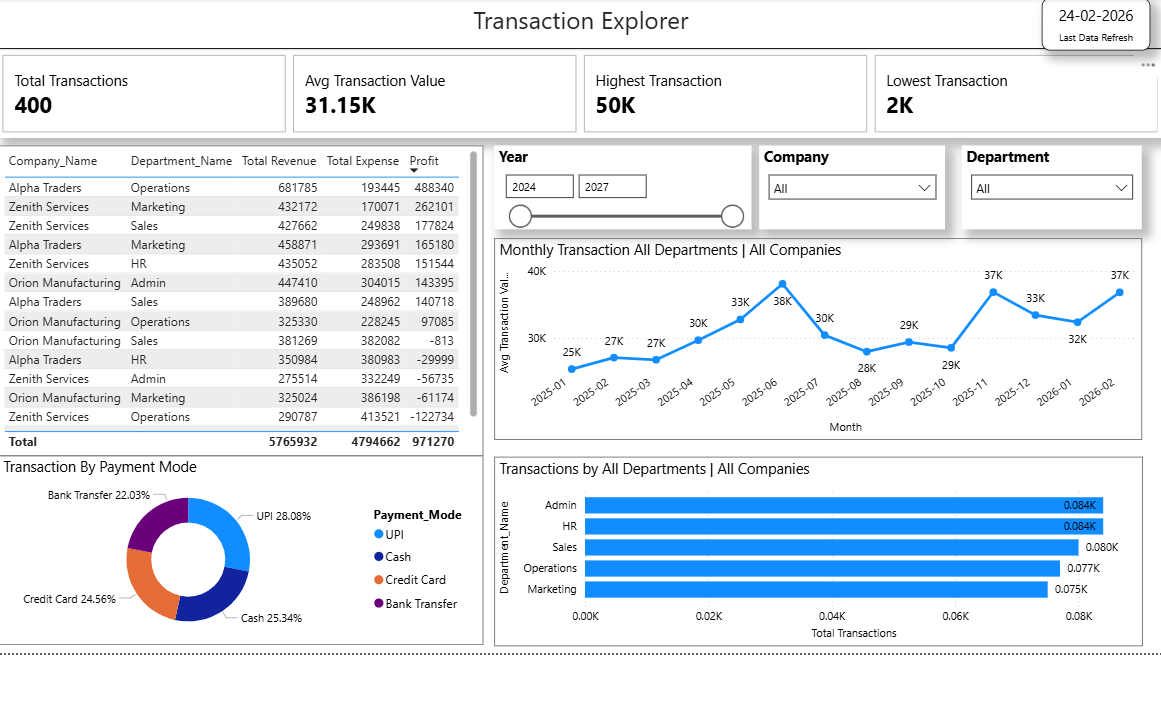

The page's visual inventory and layout, read from the dashboard file:
{"tool":"powerbi","page":{"name":"Transaction Explorer","canvas":[1280,720],"ordinal":4},"visuals":[{"type":"cardVisual","fields":{"Data":["Measure.Total Transactions","Measure.Avg Transaction Value","Measure.Highest Transaction","Measure.Lowest Transaction"]},"box":[0,57.2,1280,95.8],"z":0},{"type":"textbox","box":[0,0,1280,56],"z":1000},{"type":"donutChart","title":"Transaction By Payment Mode","fields":{"Category":["Dim_PaymentMode.Payment_Mode"],"Y":["Measure.Avg Transaction Value"]},"box":[0,502.6,532.4,207.7],"z":2000},{"type":"lineChart","fields":{"Category":["Dim_Date.YearMonth"],"Y":["Measure.Avg Transaction Value"]},"box":[544.9,263.7,711.5,221.4],"z":3000},{"type":"card","fields":{"Values":["Measure.Last Data Refresh"]},"box":[1145.7,0,119.4,57.2],"z":4000},{"type":"slicer","title":"Year","fields":{"Values":["Dim_Date.Year"]},"box":[544.9,161.7,282.4,92.1],"z":5000},{"type":"slicer","title":"Company","fields":{"Values":["Dim_Company.Company_Name"]},"box":[835.9,161.7,204,92.1],"z":6000},{"type":"slicer","title":"Department","fields":{"Values":["Dim_Department.Department_Name"]},"box":[1058.6,161.7,197.8,92.1],"z":7000},{"type":"tableEx","fields":{"Values":["Dim_Company.Company_Name","Dim_Department.Department_Name","Measure.Total Revenue","Measure.Total Expense","Measure.Profit"]},"box":[0,161.7,532.4,340.8],"z":8000},{"type":"clusteredBarChart","fields":{"Y":["Measure.Total Transactions"],"Category":["Dim_Department.Department_Name"]},"box":[545,503,712,208],"z":9000}]}

Visuals, with their boxes on the page's 1280x720 design canvas (x1, y1, x2, y2). These are canvas units, not pixel positions in the 1161x728 screenshot, which may show the page scaled, cropped or inside an application window:
cardVisual - Measure.Total Transactions x Measure.Avg Transaction Value: bbox=[0, 57, 1280, 153]
textbox: bbox=[0, 0, 1280, 56]
"Transaction By Payment Mode" donutChart: bbox=[0, 503, 532, 710]
lineChart - Dim_Date.YearMonth x Measure.Avg Transaction Value: bbox=[545, 264, 1256, 485]
card - Measure.Last Data Refresh: bbox=[1146, 0, 1265, 57]
"Year" slicer: bbox=[545, 162, 827, 254]
"Company" slicer: bbox=[836, 162, 1040, 254]
"Department" slicer: bbox=[1059, 162, 1256, 254]
tableEx - Dim_Company.Company_Name x Dim_Department.Department_Name: bbox=[0, 162, 532, 502]
clusteredBarChart - Measure.Total Transactions x Dim_Department.Department_Name: bbox=[545, 503, 1257, 711]
